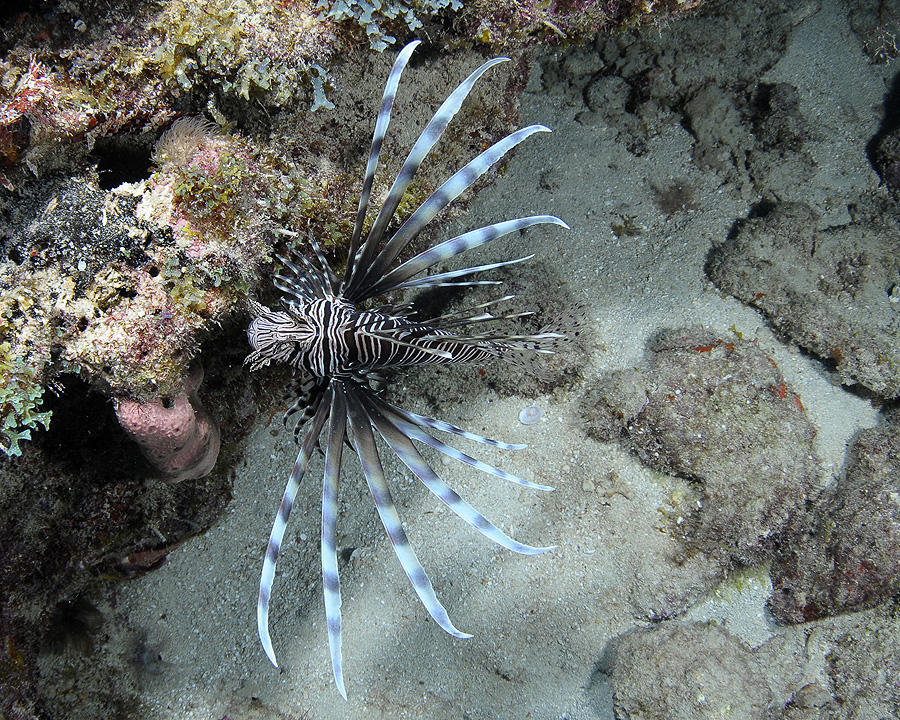Pterois_volitans: (159, 128, 603, 626)
